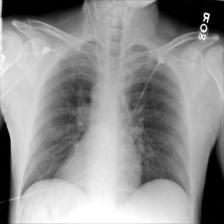normal: (17, 36, 194, 204)
